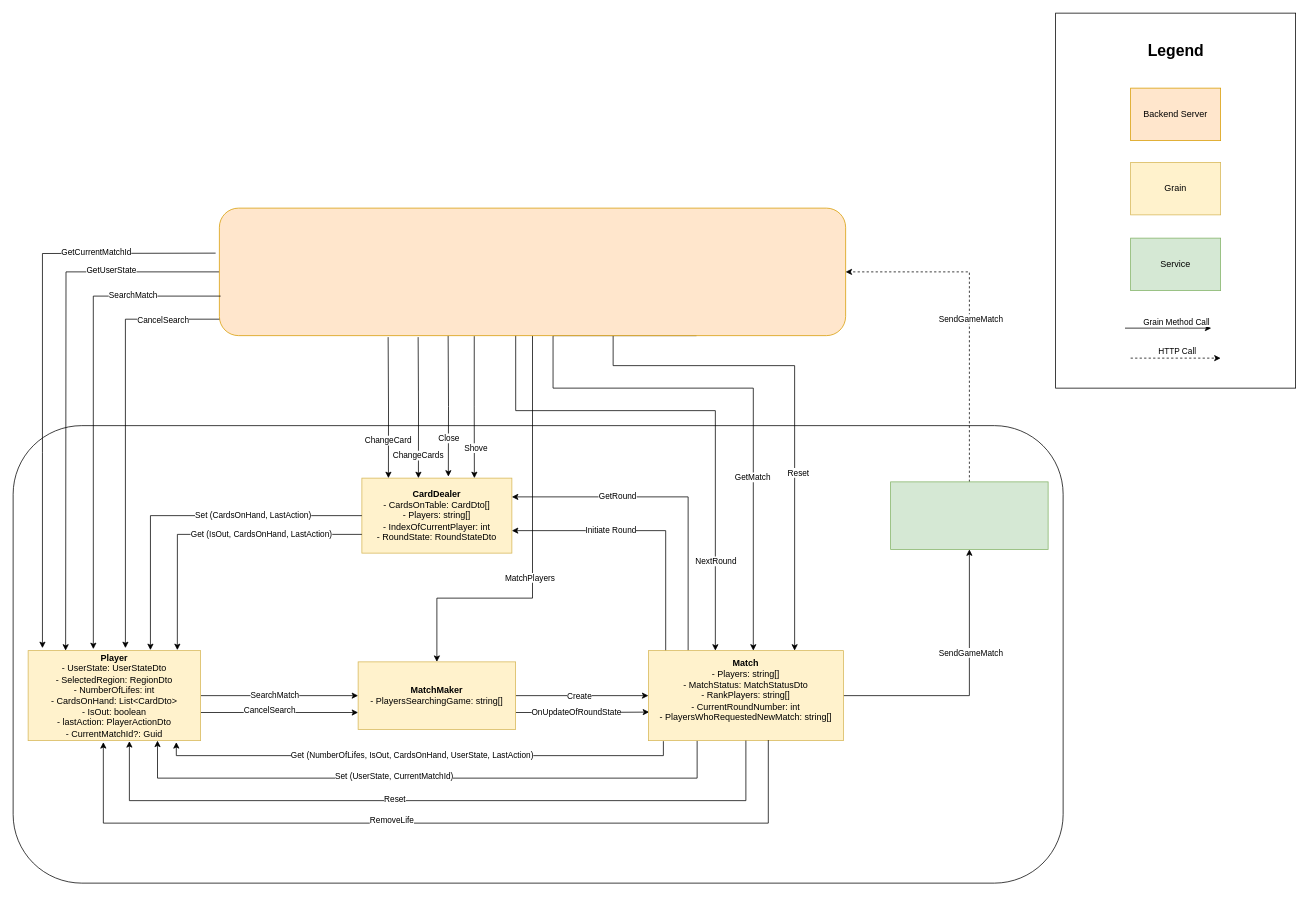
This 1309x918 diagram has some shape labels left out. Each missing label, with the box of its shape:
SendGameMatchService: (890, 481, 1048, 549)
Server: (219, 207, 846, 336)
Silo: (12, 425, 1063, 883)
